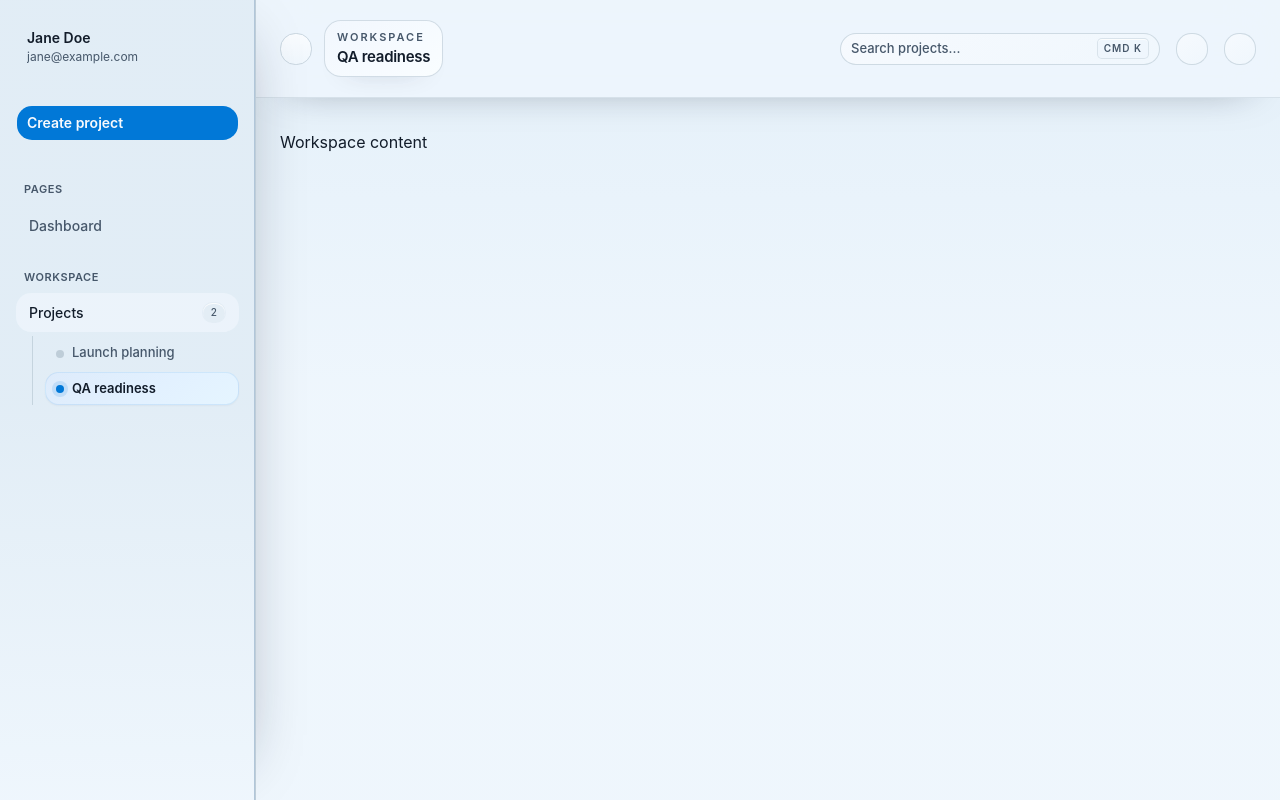
Test: AppShellChrome › renders page navigation with a grouped, indented project list
This screenshot has width=1280, height=800.
Expected: the heading "QA readiness" is shown, [337,46,430,68]
Expected: the link "Dashboard" is shown, [29,216,102,234]
Click the button with test id "sidebar-projects-toggle": point(128, 312) [16,293,239,332]
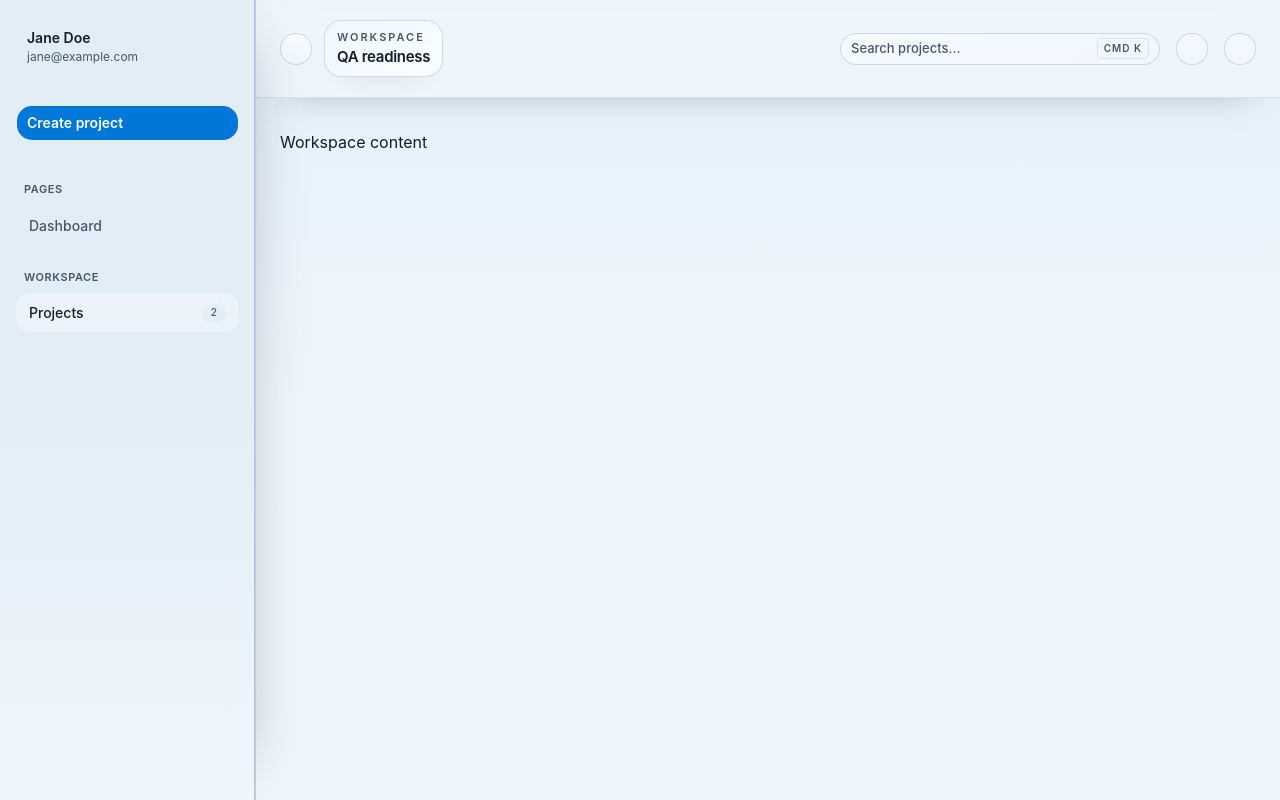
Expected: the list with test id "sidebar-projects-list" is gone
Click the button with test id "sidebar-projects-toggle": point(128, 312) [16,293,239,332]
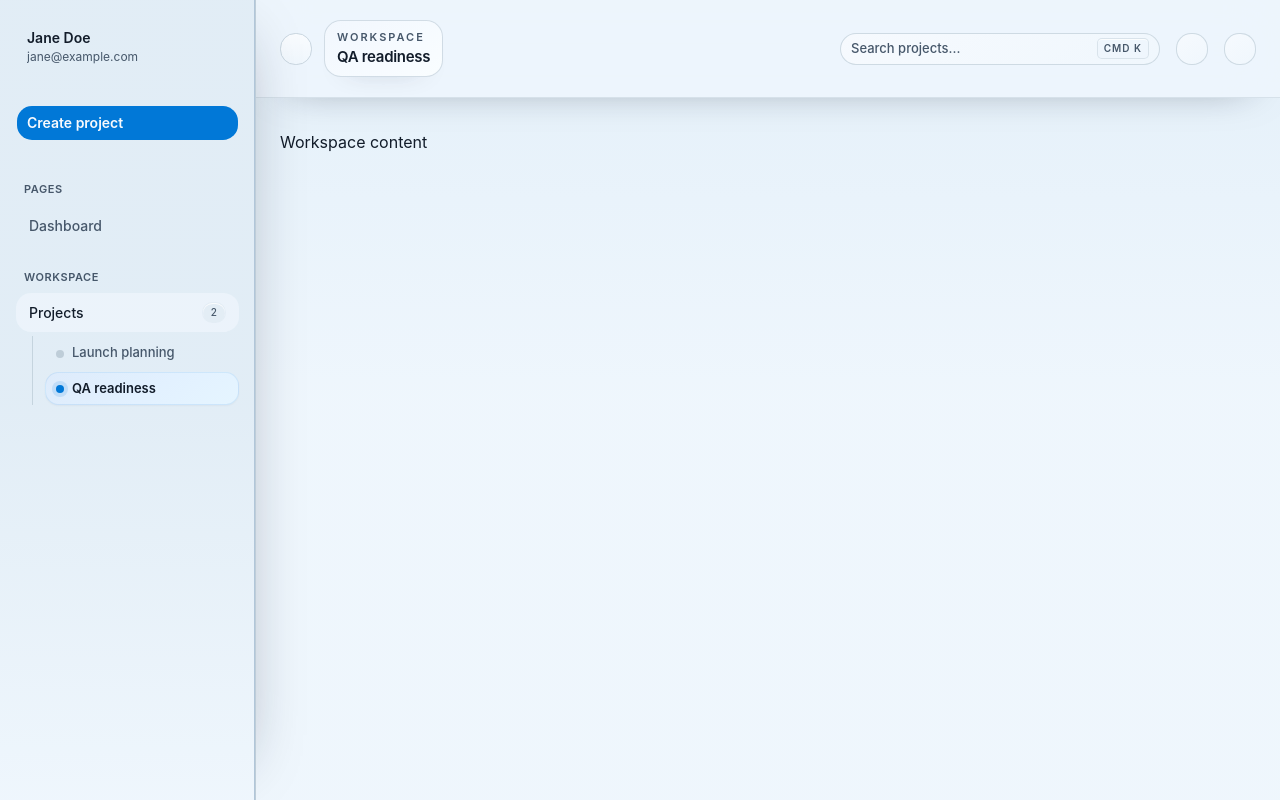
Expected: the list with test id "sidebar-projects-list" is shown, [32,336,239,405]
